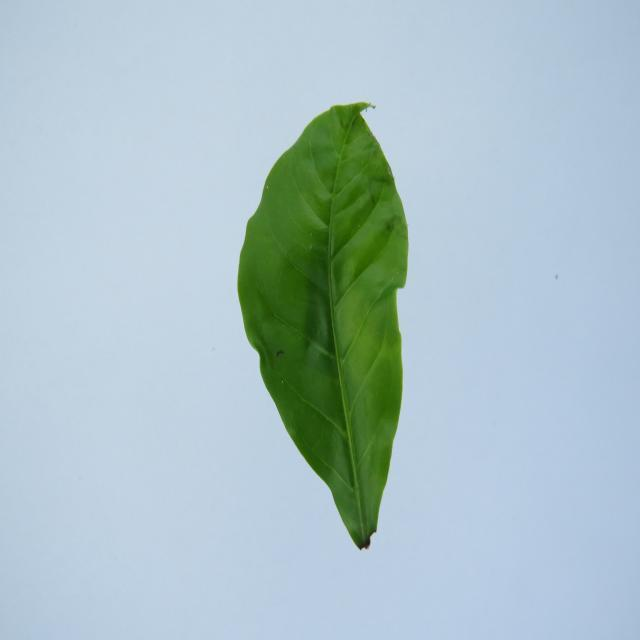DeficienciaNutricional-Calcio: (238, 102, 409, 548)
